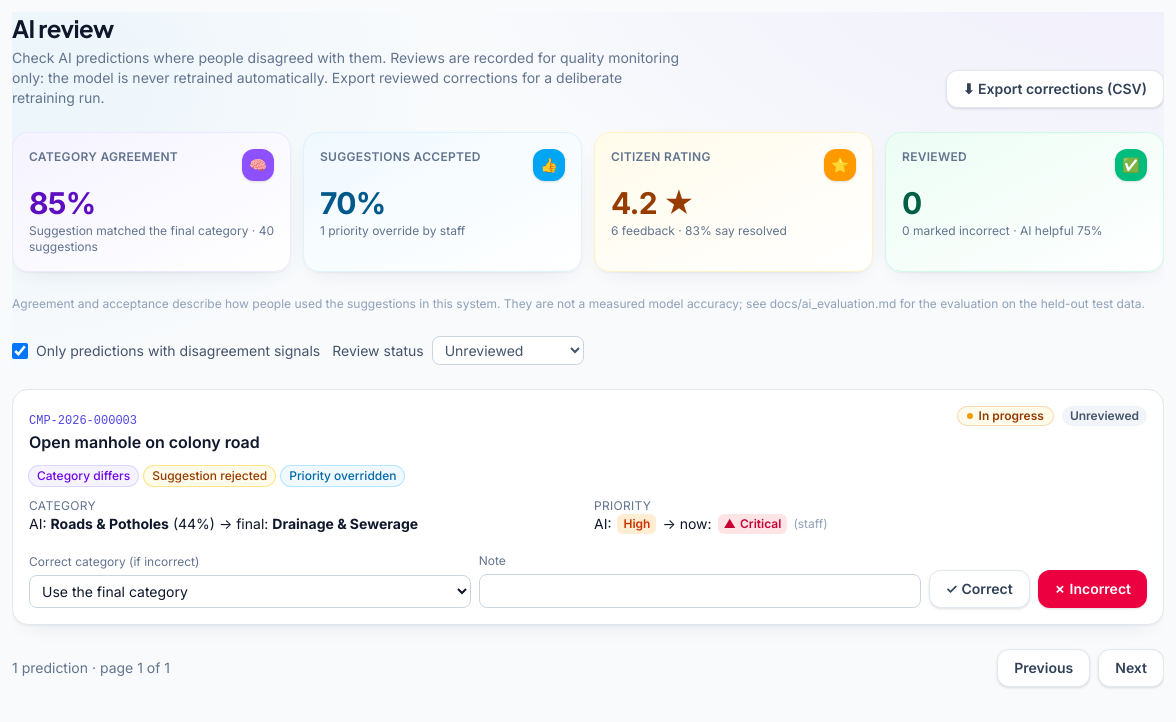
Test: lists flagged predictions with signals and records a review
Expected: the text "Open manhole on colony road" is shown, [29, 430, 260, 454]
Expected: the text "Category differs" is shown, [29, 466, 138, 486]
Click the button "✗ Incorrect": (1092, 589) [1038, 570, 1147, 608]
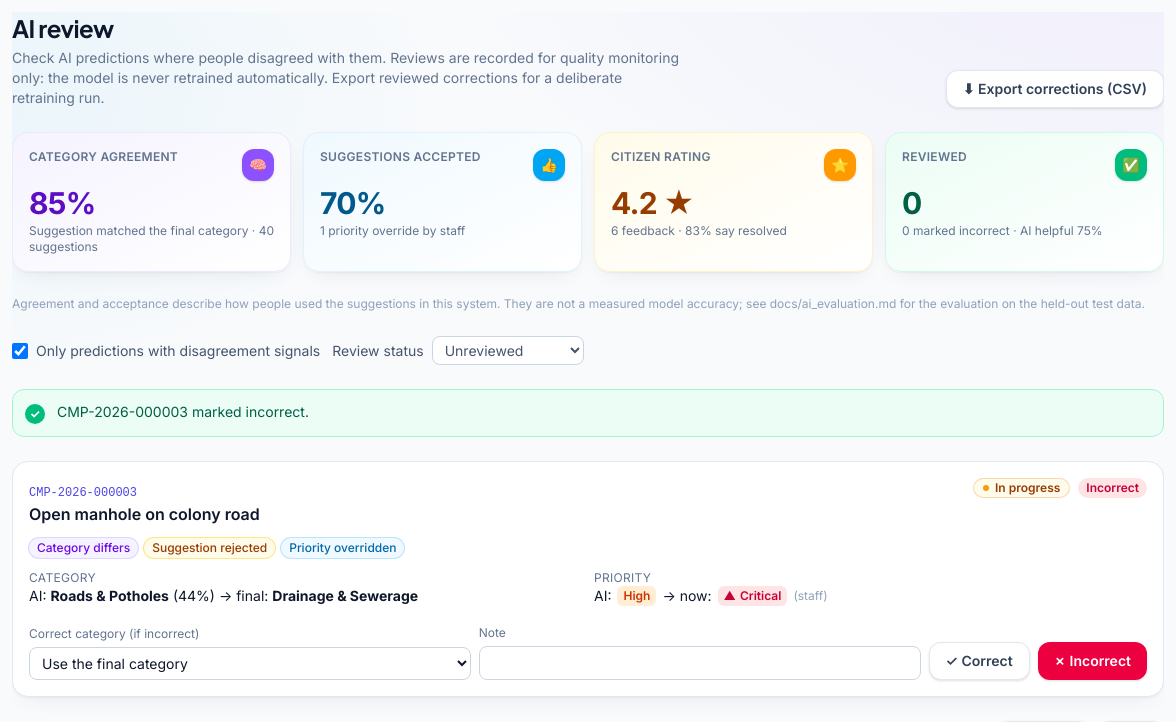
Now the text "CMP-2026-000003 marked incorrect." is shown, box [57, 403, 309, 420]
